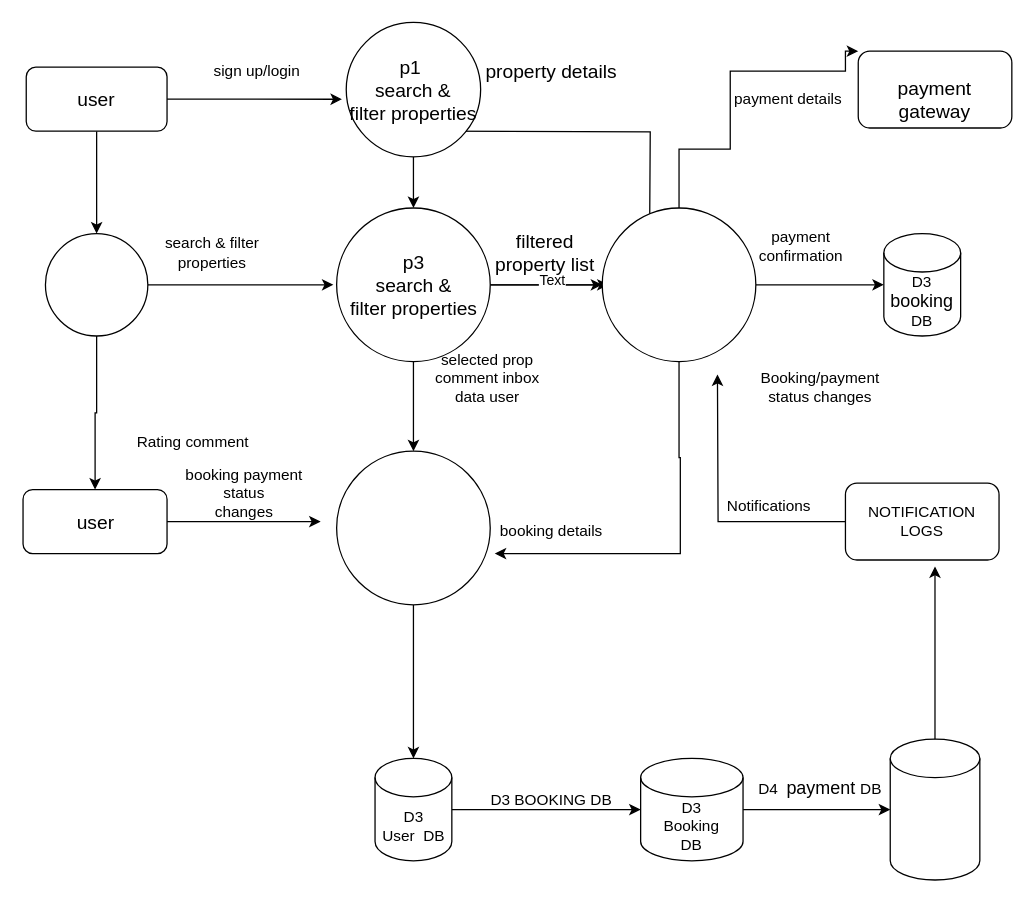
Image size: 1034x902. Some labels were removed from this diagram. The shapes that lost their labels are listed below. From the top down, each one's centre as x and y in pixels, then its label:
At (x=96, y=284): "Admin".
At (x=678, y=284): "P4 booking system".
At (x=412, y=527): "p7 booking system".
At (x=934, y=809): "D6 payment logs".
